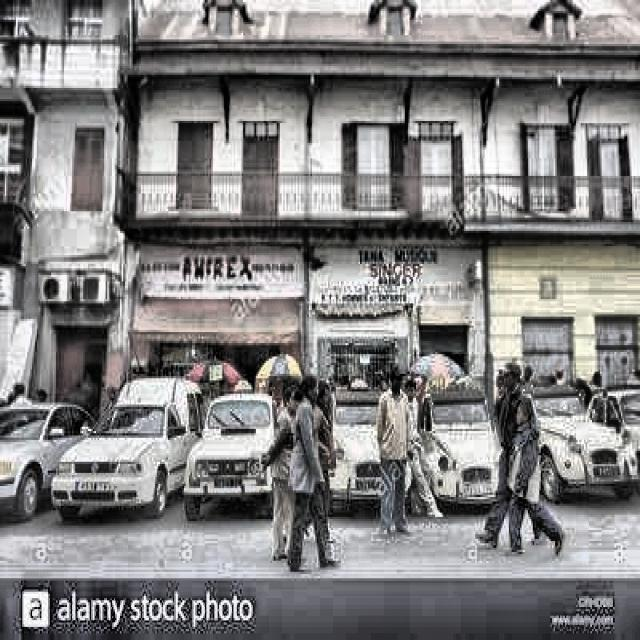license_plate: (74, 480, 114, 498), (456, 483, 495, 501), (213, 474, 245, 490), (354, 478, 383, 495), (593, 464, 618, 479)
